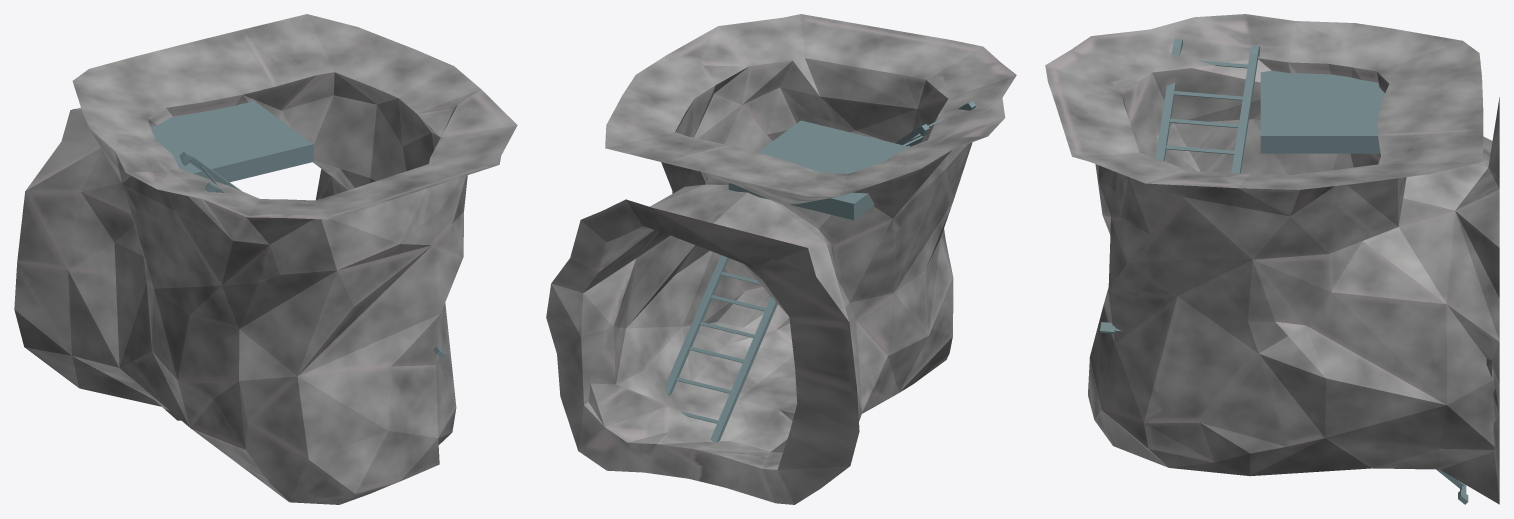
Rendered from LVertical1Connector.gltf.
The picture shows the model from 3 angles, left to right: view 1: azimuth 30°, elevation 25°; view 2: azimuth 150°, elevation 25°; view 3: azimuth 270°, elevation 25°; orthographic projection. The views are drawn at different scales.
Visible parts, largest first — view 1: LVertical1Connector; view 2: LVertical1Connector; view 3: LVertical1Connector.
Boxes of the visible parts, x1,y1,x2,y2 form: LVertical1Connector: [14, 14, 517, 504]; LVertical1Connector: [546, 14, 1016, 504]; LVertical1Connector: [1045, 14, 1499, 504].
Size of the model in its own units: 5.22 by 4.8 by 5.7.
Materials: 3 (3 with a texture image).
